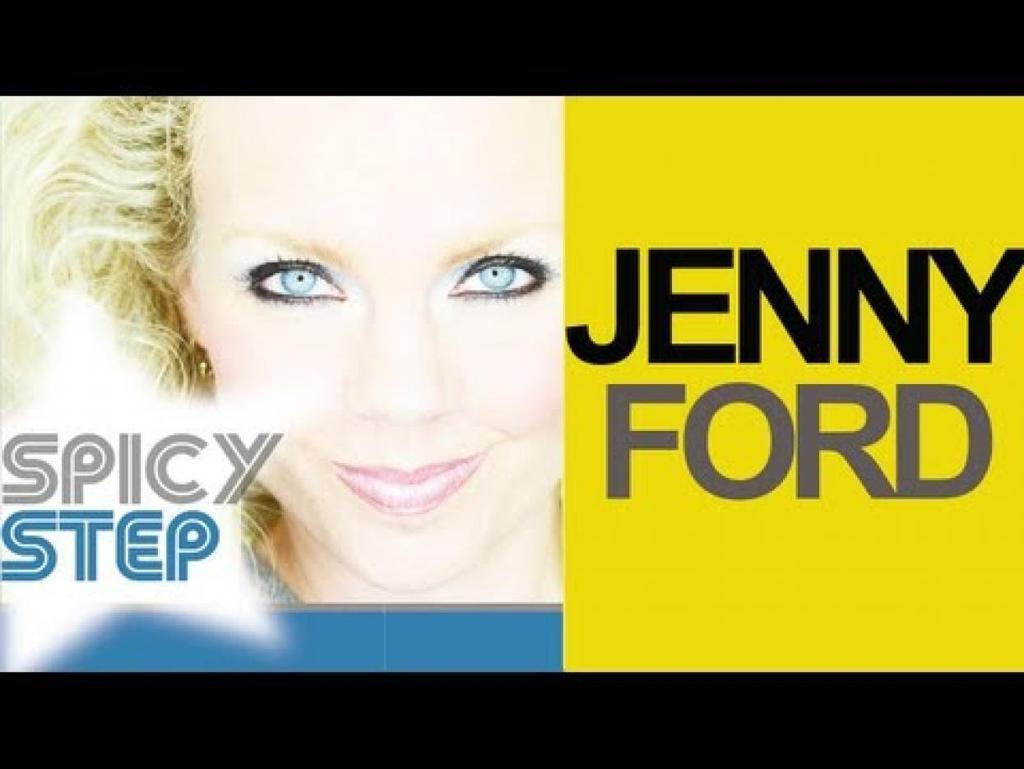face: (181, 99, 593, 599)
